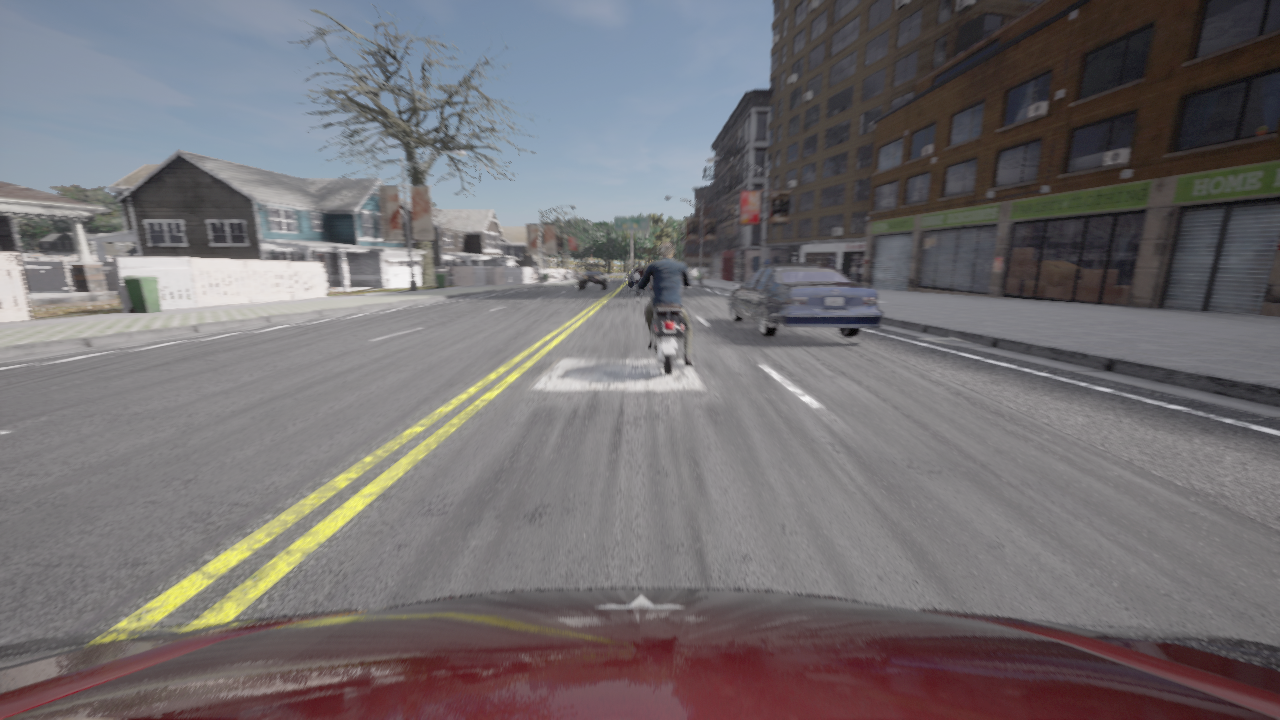cyclist: (0, 588, 1279, 719), (728, 264, 882, 336), (633, 270, 696, 375), (577, 263, 607, 290), (629, 270, 650, 285), (639, 289, 640, 292)
